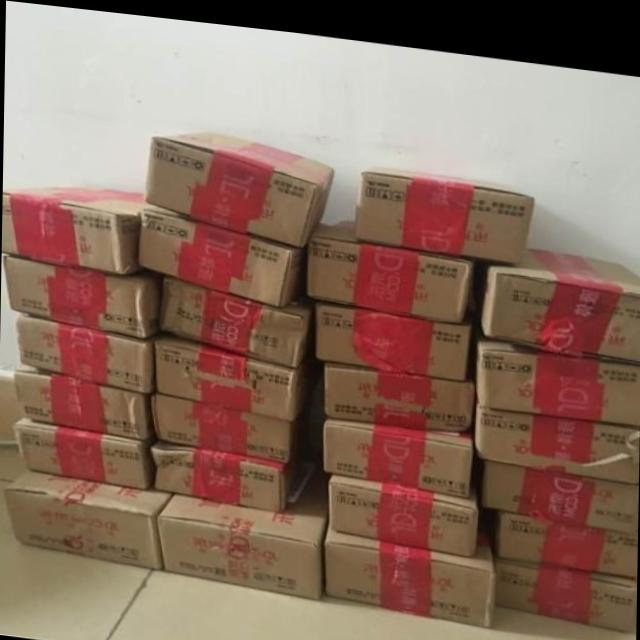box: (153, 461, 327, 593), (142, 126, 333, 238), (480, 234, 640, 348), (323, 514, 497, 616), (305, 211, 474, 314), (136, 197, 301, 302), (354, 156, 533, 252), (6, 469, 174, 566), (161, 269, 313, 361), (475, 329, 640, 411), (152, 326, 304, 414), (2, 254, 165, 336), (475, 391, 639, 470), (2, 181, 145, 271), (313, 294, 471, 371), (322, 409, 474, 488), (328, 467, 475, 547), (18, 310, 153, 391), (494, 544, 636, 620), (484, 448, 638, 518), (13, 361, 148, 439), (322, 353, 473, 422), (14, 417, 154, 487), (152, 435, 289, 505), (492, 498, 638, 562), (150, 389, 289, 456)
